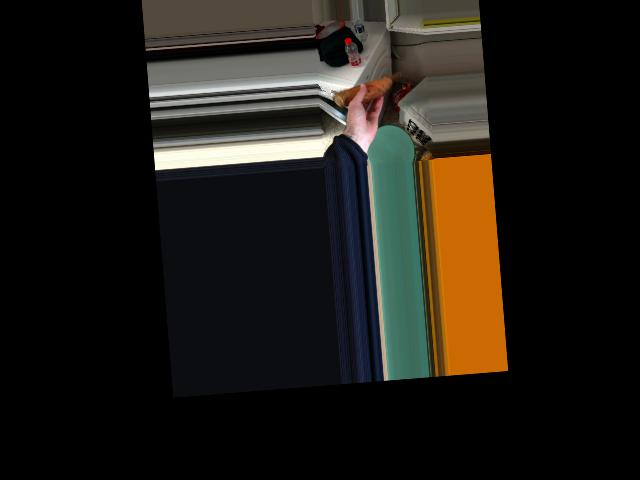sweet_potato: (335, 69, 401, 110)
